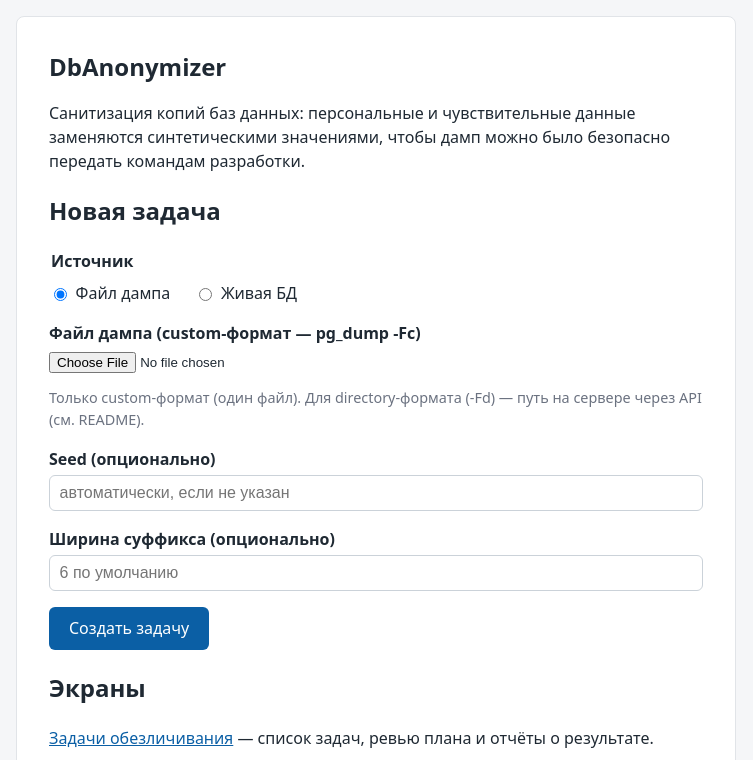
React screens › submits a live source with seed and zero suffix width
Click the radio button labelled "Живая БД": [206, 294] box [199,288,212,301]
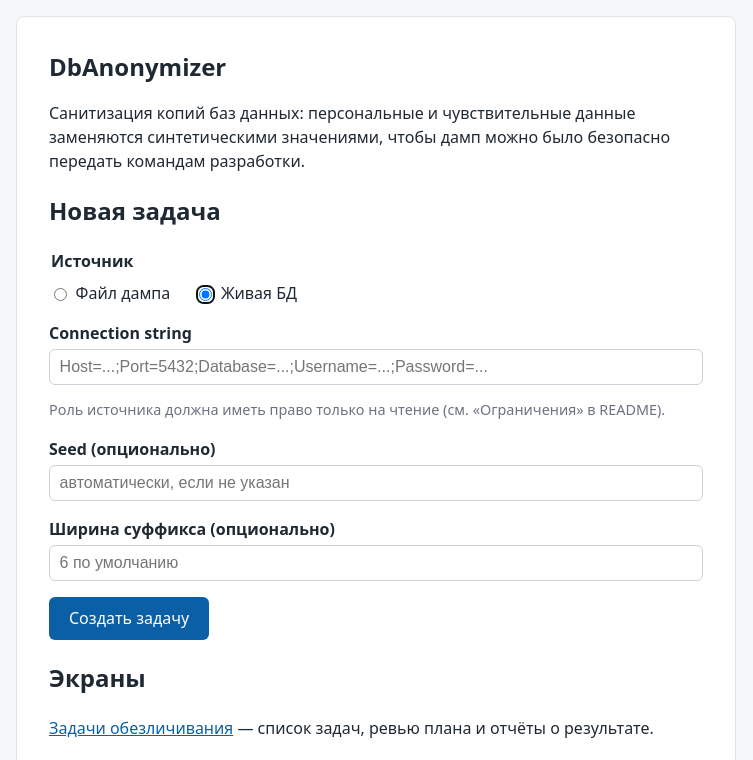
In the field labelled "Connection string": [376, 367] box [49,349,703,385], type "Host=test"
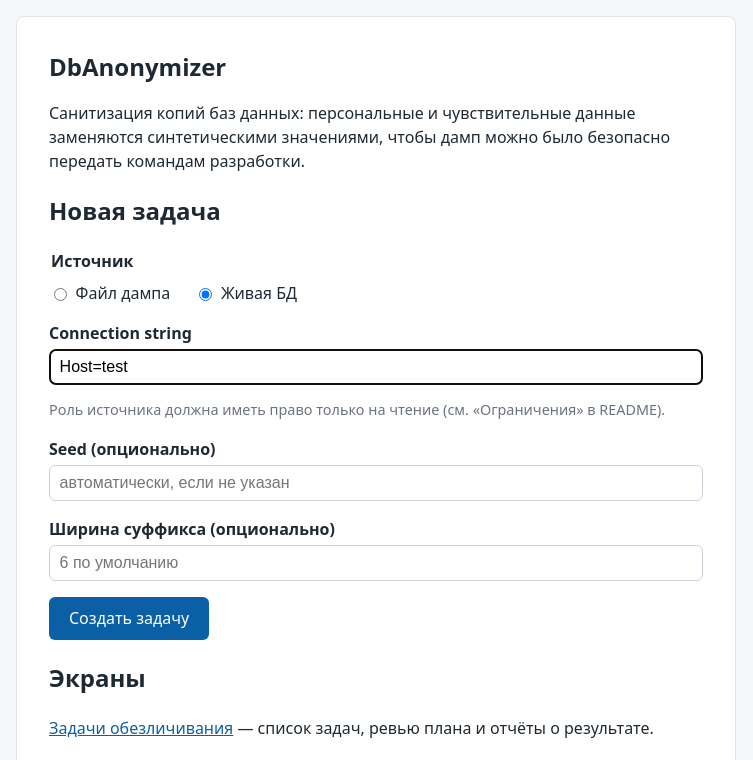
In the field labelled "Seed (опционально)": [376, 483] box [49,465,703,501], type "seed"
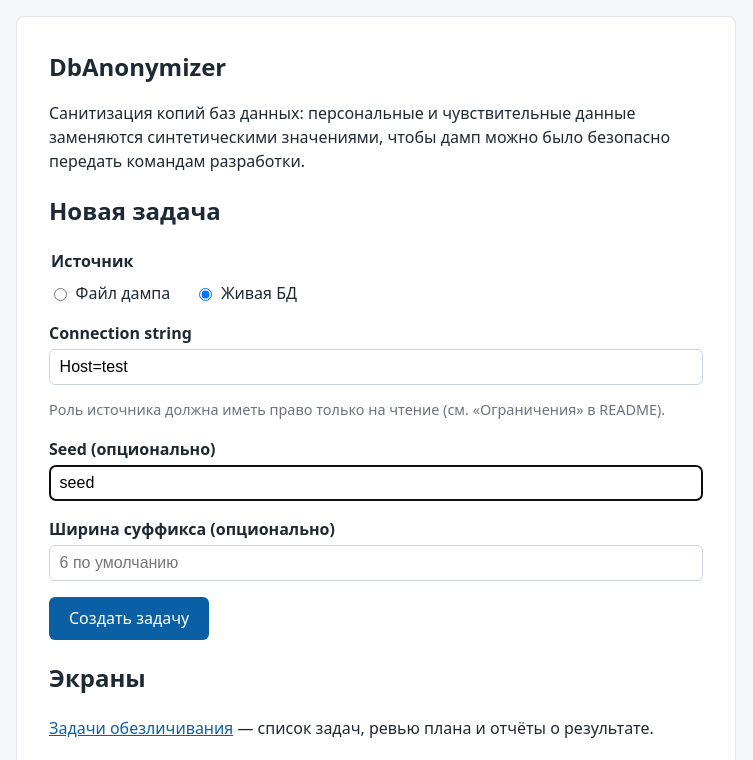
In the number field labelled "Ширина суффикса (опционально)": [376, 563] box [49,545,703,581], type "0"
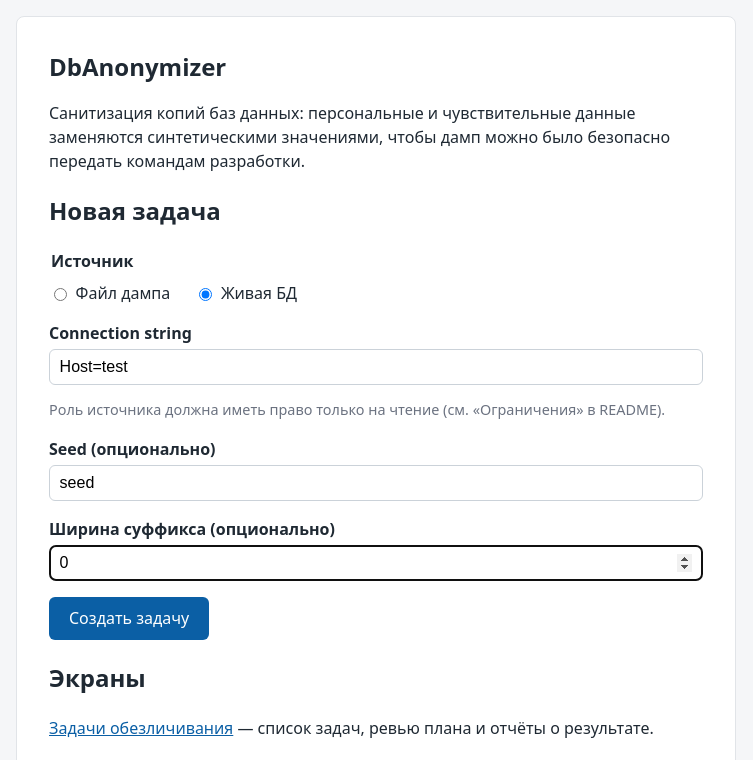
Click the button "Создать задачу": [129, 618] box [49,597,209,640]
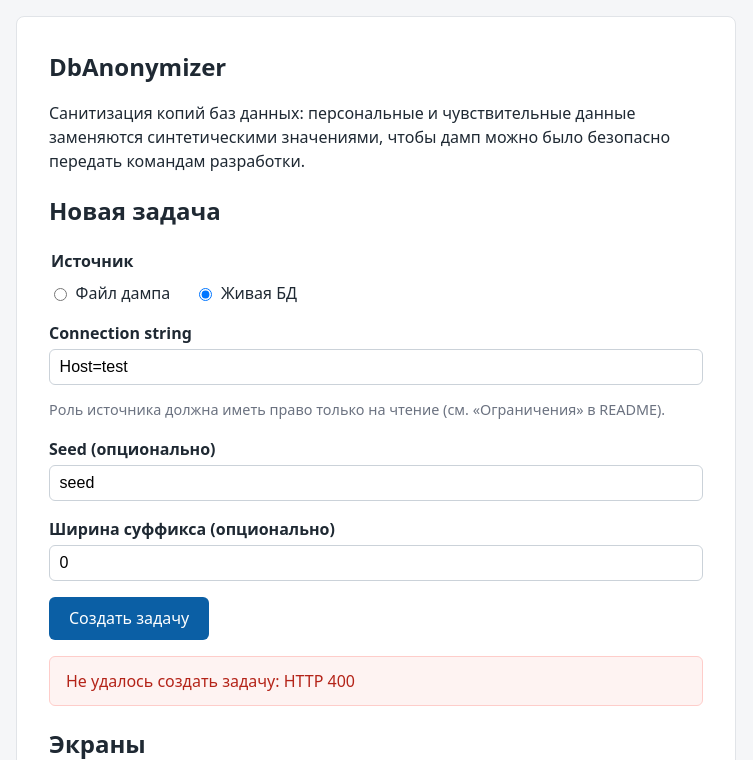
Result: the message "Не удалось создать задачу: HTTP 400" is shown at [49,656,703,706]
